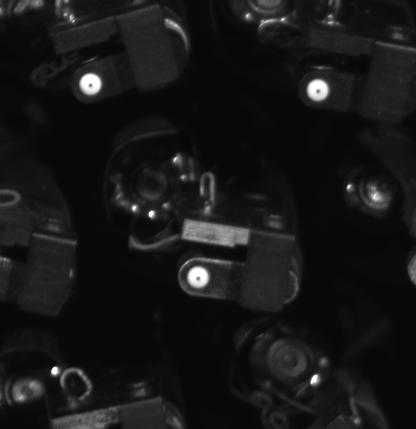fiber: (302, 72, 333, 109), (73, 69, 108, 100), (181, 263, 216, 293)
